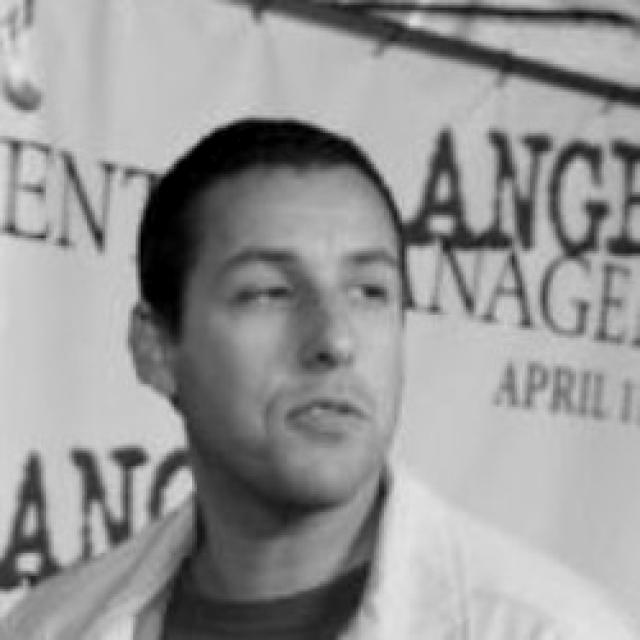real: (132, 154, 407, 514), (212, 253, 398, 323)
